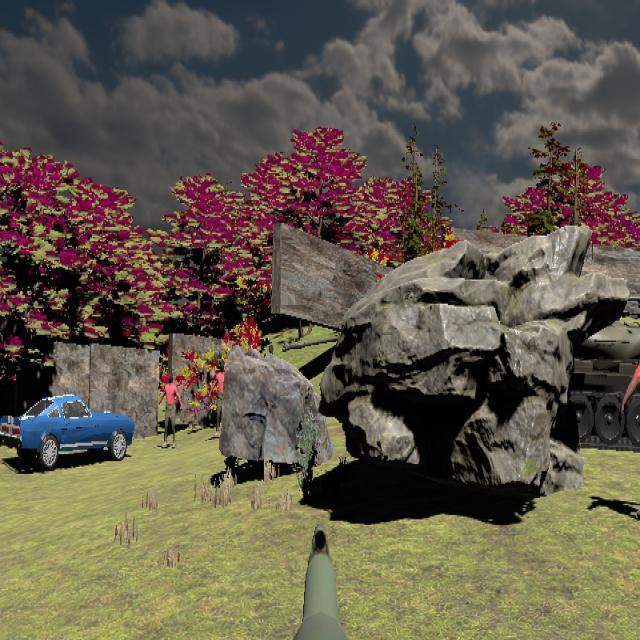Human: (620, 323, 640, 460), (620, 324, 640, 458), (157, 373, 183, 450)
Tank: (561, 318, 640, 451)
car: (1, 392, 136, 471)
